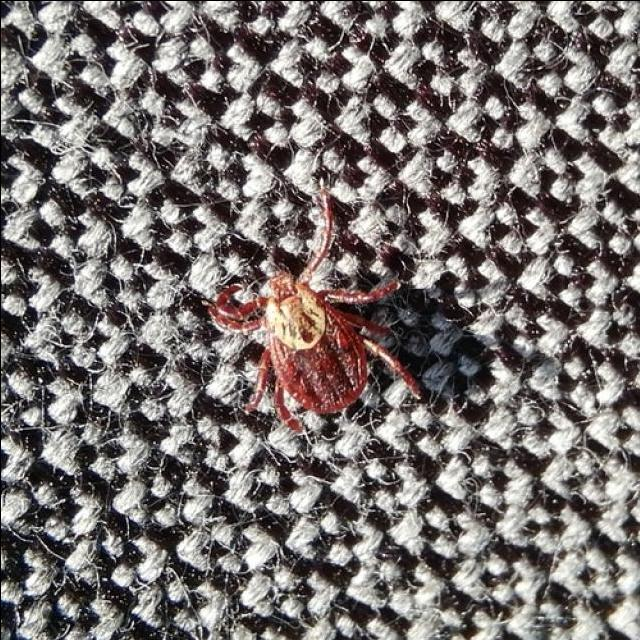Dermacentor Reticulatus-F: (209, 190, 420, 431)
